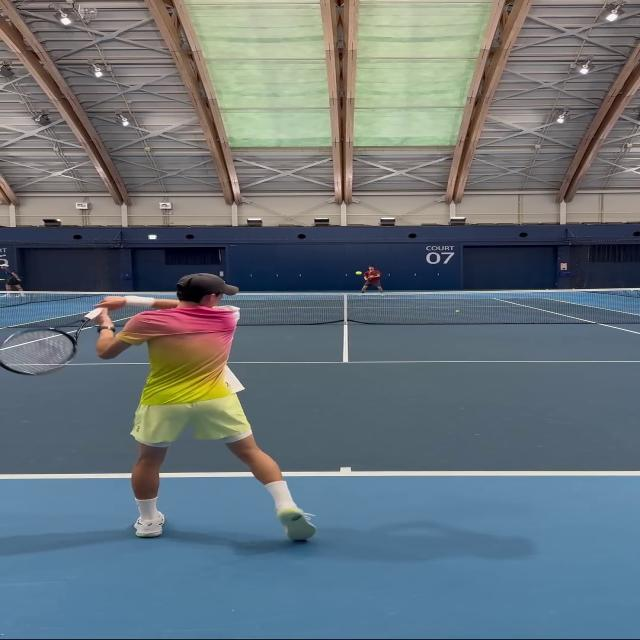tennis_ball: (357, 272, 361, 274)
